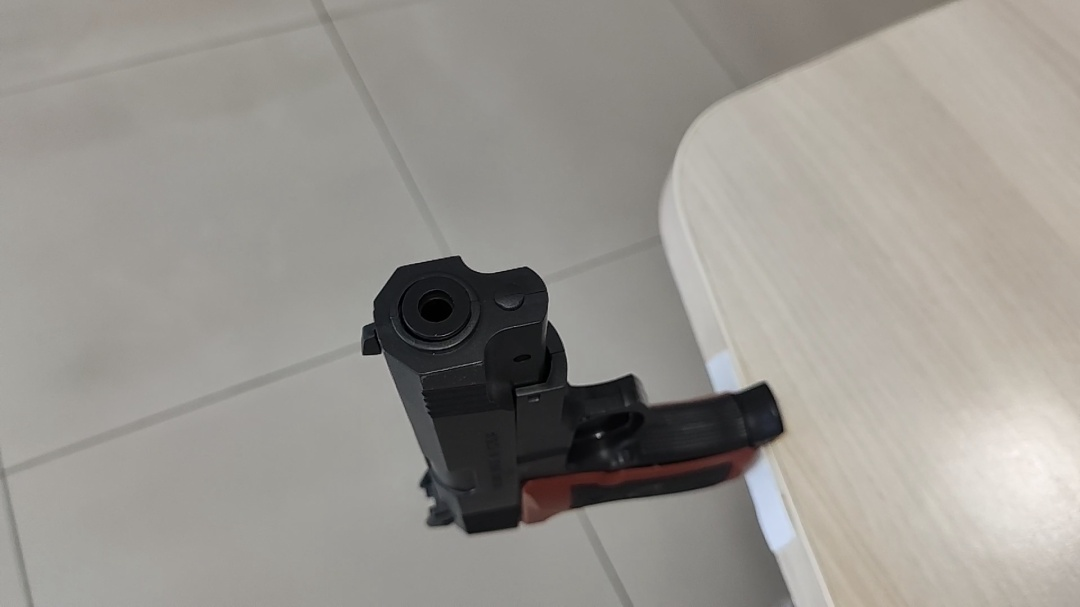gun: (370, 242, 404, 289)
